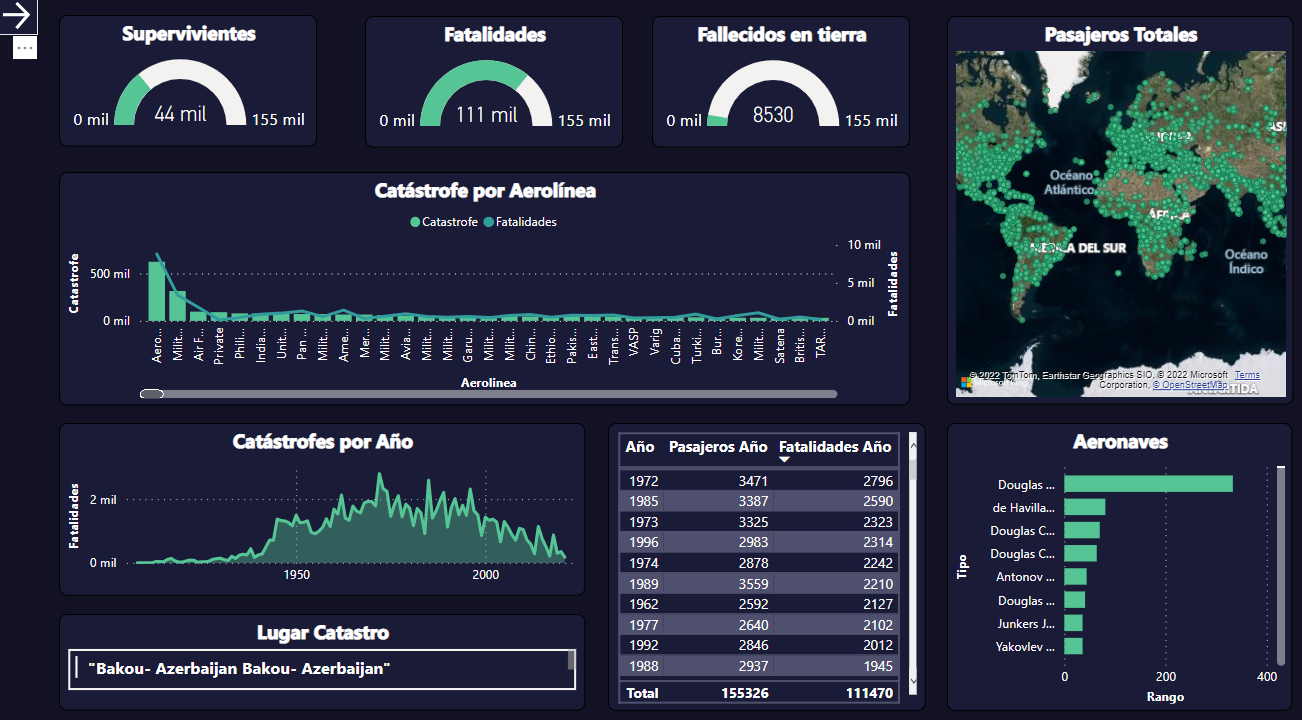

The page's visual inventory and layout, read from the dashboard file:
{"tool":"powerbi","page":{"name":"Página 1","canvas":[1280,720],"ordinal":0},"visuals":[{"type":"lineStackedColumnComboChart","title":"Catástrofe por Aerolínea","fields":{"Category":["analytics aviacion.Aerolinea"],"Y":["Sum(analytics aviacion.Id_catastrofe)"],"Y2":["Sum(analytics aviacion.Taza_de_fatalidad)"]},"box":[63.2,173.1,827.7,226.6],"z":0},{"type":"gauge","title":"Supervivientes ","fields":{"MaxValue":["Sum(analytics aviacion.Pasajeros)"],"Y":["Sum(analytics aviacion.Supervivientes)"]},"box":[63.2,20.4,250.9,128.4],"z":1000},{"type":"gauge","title":"Fatalidades","fields":{"MaxValue":["Sum(analytics aviacion.Pasajeros)"],"Y":["Sum(analytics aviacion.Taza_de_fatalidad)"]},"box":[360.9,21.4,250.9,128.4],"z":2000},{"type":"gauge","title":"Fallecidos en tierra","fields":{"MaxValue":["Sum(analytics aviacion.Pasajeros)"],"Y":["Sum(analytics aviacion.Fallecidos_en_tierra)"]},"box":[640,21.4,250.9,128.4],"z":3000},{"type":"clusteredBarChart","title":"Aeronaves","fields":{"Category":["analytics aviacion.Tipo"],"Y":["CountNonNull(analytics aviacion.Aerolinea)"]},"box":[926.9,417.3,335.6,280.1],"z":4000},{"type":"multiRowCard","title":"Lugar Catastro","fields":{"Values":["analytics aviacion.Lugar"]},"box":[63.2,603,511.6,94.3],"z":5000},{"type":"map","title":"Pasajeros Totales","fields":{"Category":["analytics aviacion.Lugar"]},"box":[926.9,21.4,336.5,378.4],"z":7000},{"type":"tableEx","fields":{"Values":["analytics aviacion.Fecha.Variación.Jerarquía de fechas.Año","Sum(analytics aviacion.Pasajeros)","Sum(analytics aviacion.Taza_de_fatalidad)"]},"box":[597.2,417.3,309.3,280.1],"z":8000},{"type":"areaChart","title":"Catástrofes por Año","fields":{"Category":["analytics aviacion.Fecha.Variación.Jerarquía de fechas.Año"],"Y":["Sum(analytics aviacion.Taza_de_fatalidad)"]},"box":[63.2,417.3,511.6,168.3],"z":9000}]}

Visuals, with their boxes on the page's 1280x720 design canvas (x1, y1, x2, y2). These are canvas units, not pixel positions in the 1302x720 screenshot, which may show the page scaled, cropped or inside an application window:
"Catástrofe por Aerolínea" lineStackedColumnComboChart: pyautogui.locateOnScreen(63, 173, 891, 400)
"Supervivientes " gauge: pyautogui.locateOnScreen(63, 20, 314, 149)
"Fatalidades" gauge: pyautogui.locateOnScreen(361, 21, 612, 150)
"Fallecidos en tierra" gauge: pyautogui.locateOnScreen(640, 21, 891, 150)
"Aeronaves" clusteredBarChart: pyautogui.locateOnScreen(927, 417, 1262, 697)
"Lugar Catastro" multiRowCard: pyautogui.locateOnScreen(63, 603, 575, 697)
"Pasajeros Totales" map: pyautogui.locateOnScreen(927, 21, 1263, 400)
tableEx - analytics aviacion.Fecha.Variación.Jerarquía de fechas.Año x Sum(analytics aviacion.Pasajeros): pyautogui.locateOnScreen(597, 417, 906, 697)
"Catástrofes por Año" areaChart: pyautogui.locateOnScreen(63, 417, 575, 586)
